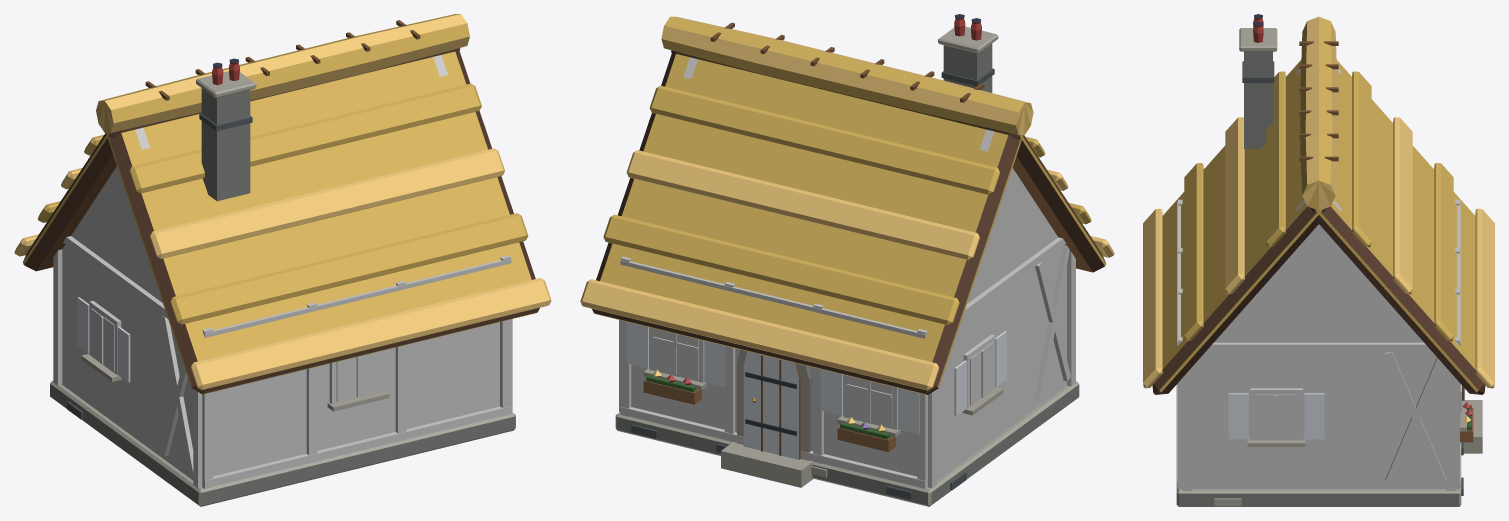
File: ThatchCottage.obj
3 renders of one model, left to right at view 1: azimuth 30°, elevation 25°; view 2: azimuth 150°, elevation 25°; view 3: azimuth 270°, elevation 25°, orthographic. The views are drawn at different scales.
Bounding box in the file's own units: 12.8 × 13.62 × 11.61.
